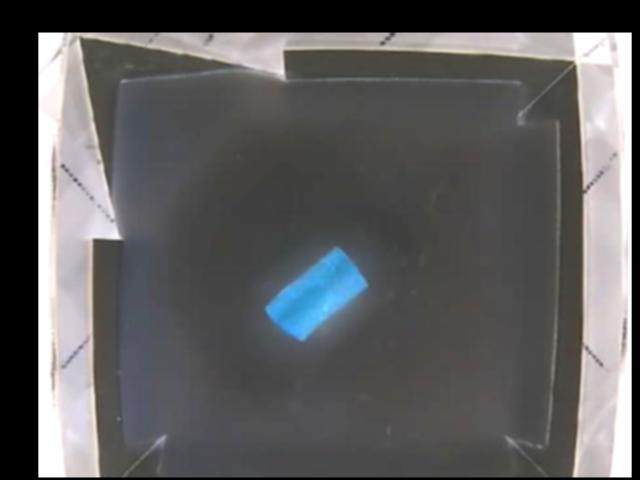Carrot: (263, 244, 369, 339)
